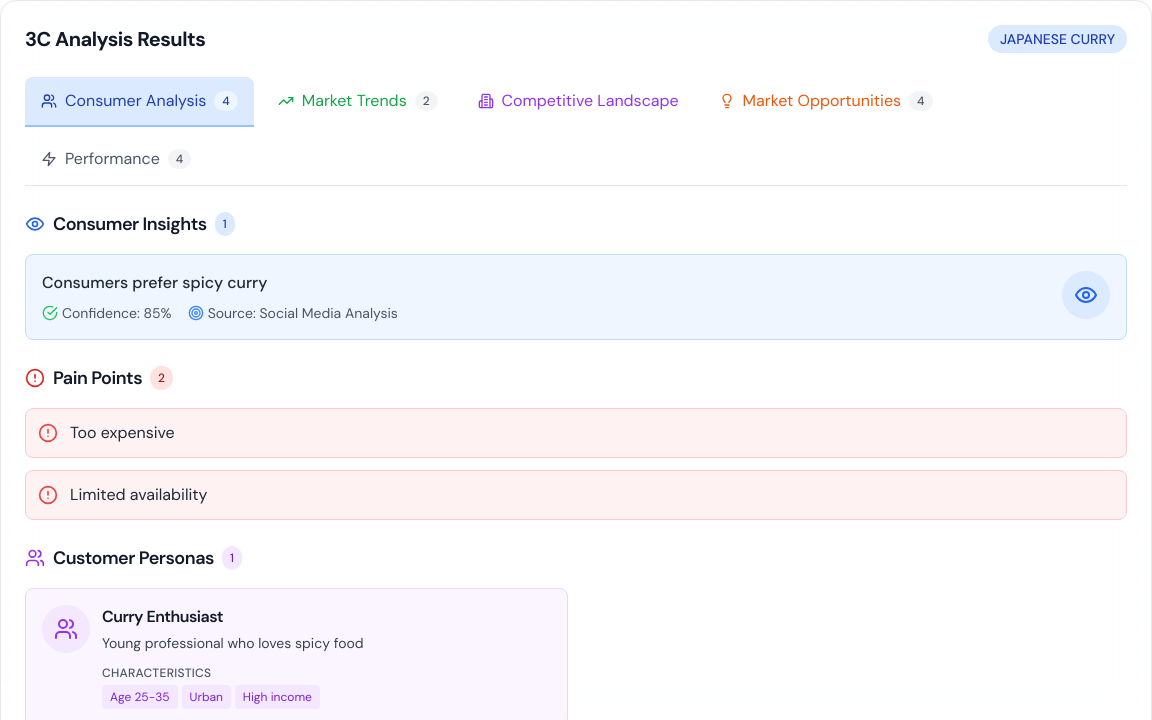
it: ResultsDashboard › switches tabs when clicked
# Click on Market Trends tab
Click the text "Market Trends" at (354, 101), box [302,89,407,113]
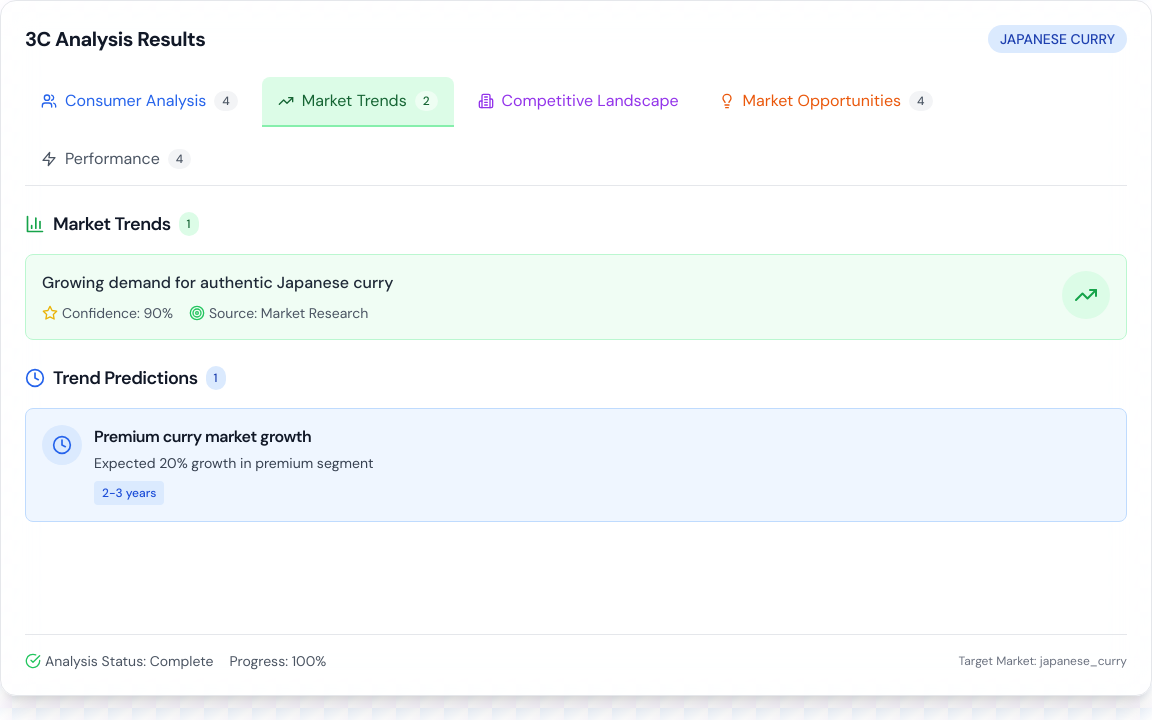
Expected: the text "Growing demand for authentic Japanese curry" is shown, [42,272,393,293]
